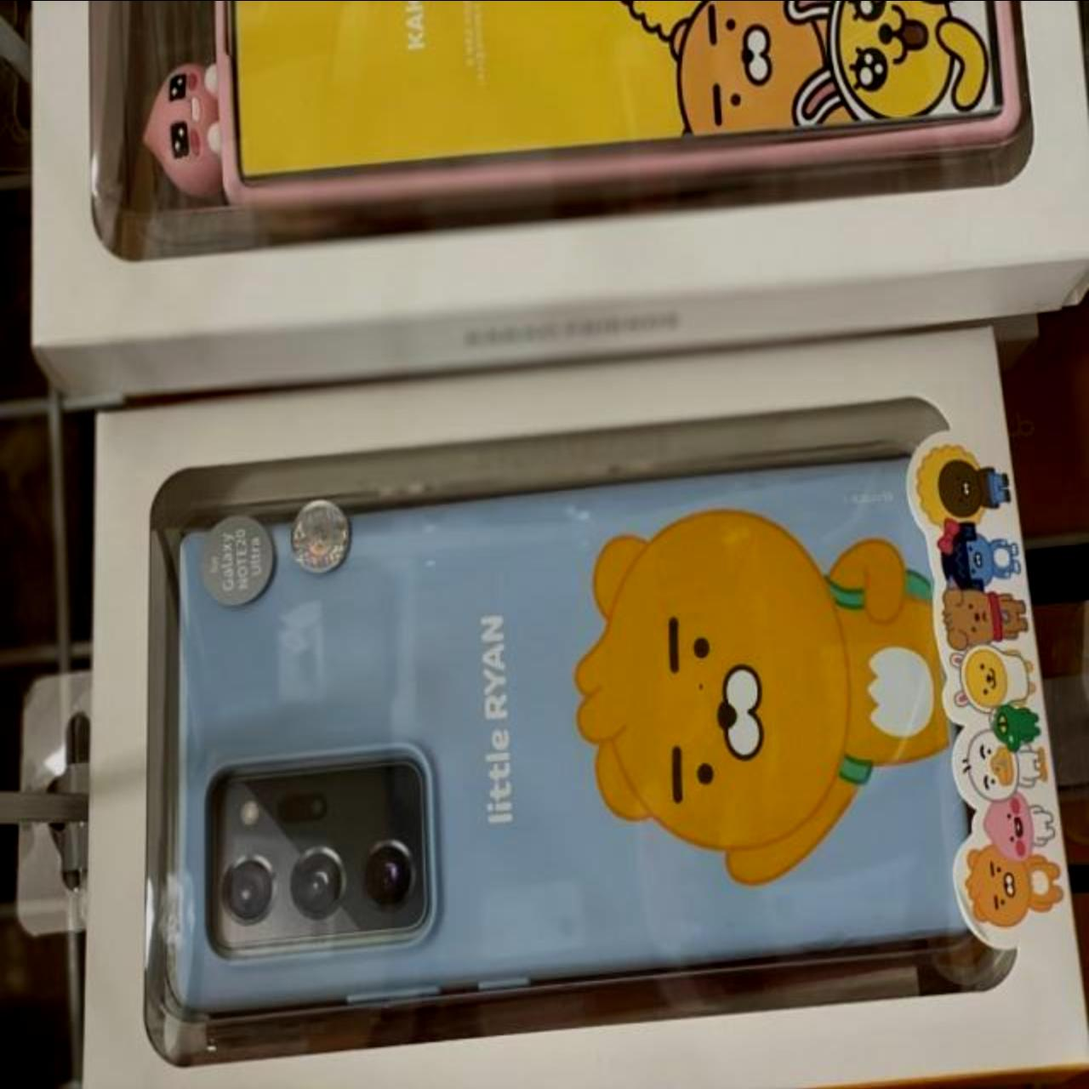phone: (170, 453, 973, 1012)
